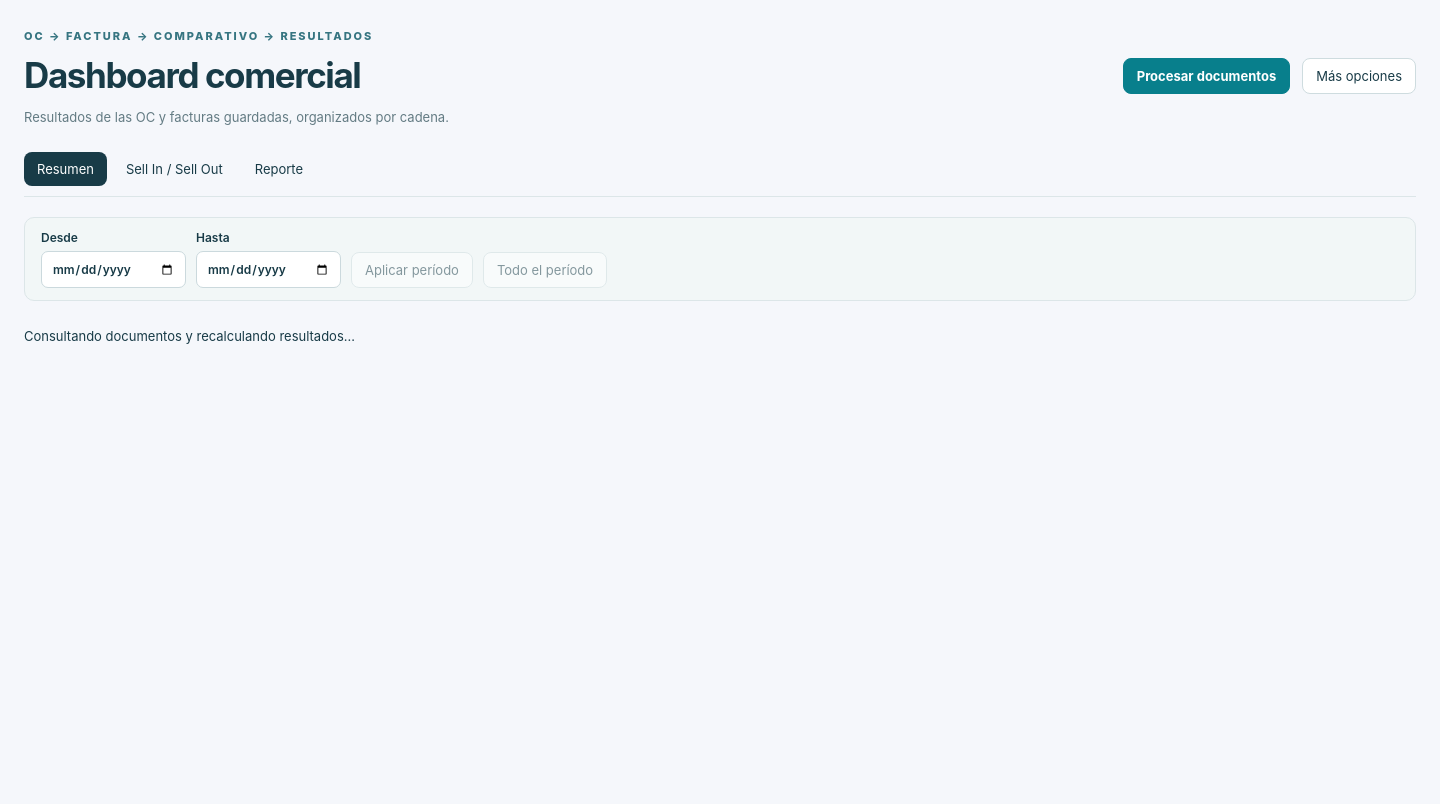
Control comercial › muestra el error de carga sin reutilizar indicadores anteriores
Click the button "Más opciones" at (1359, 76), box top-left (1302, 58), bottom-right (1416, 94)
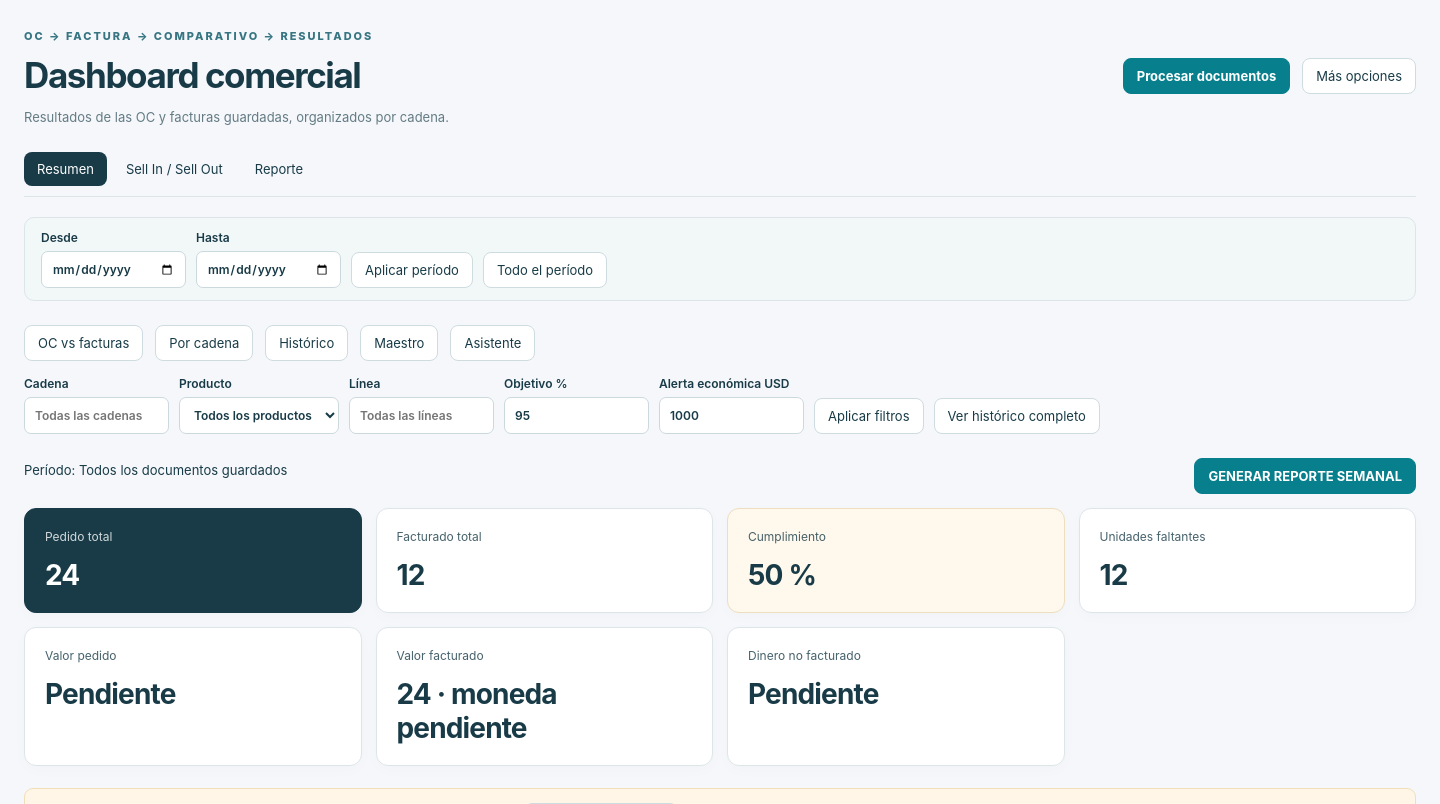
Click the button "Aplicar filtros" at (869, 416), box top-left (814, 398), bottom-right (924, 434)
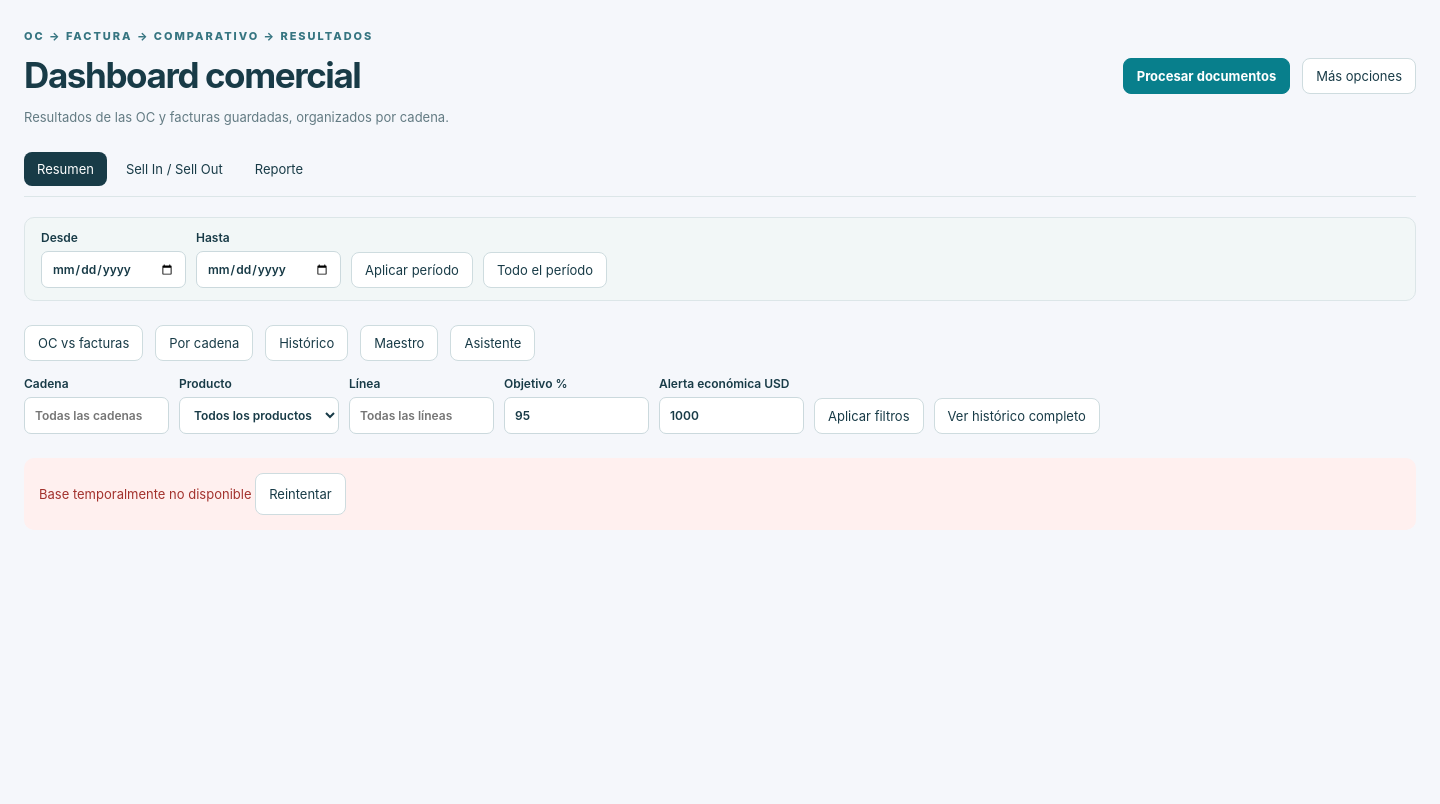
expect the message shows "Base temporalmente no disponible": met, box top-left (39, 486), bottom-right (252, 502)
expect the button "Reintentar" is shown: met, box top-left (255, 473), bottom-right (346, 515)
